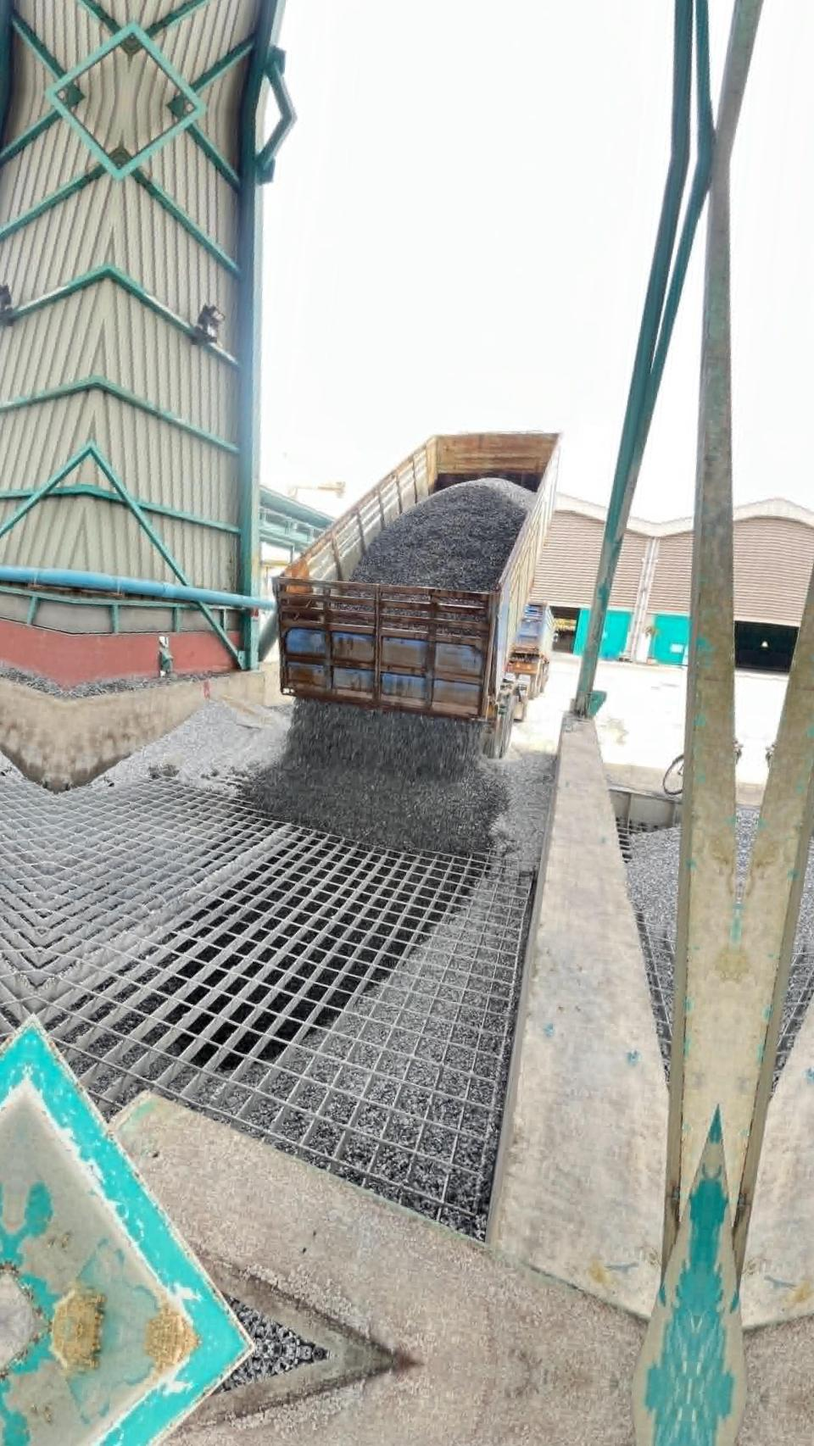gravel: (91, 701, 554, 870), (352, 477, 535, 591), (626, 826, 680, 939), (227, 1298, 329, 1355), (65, 671, 221, 698)
